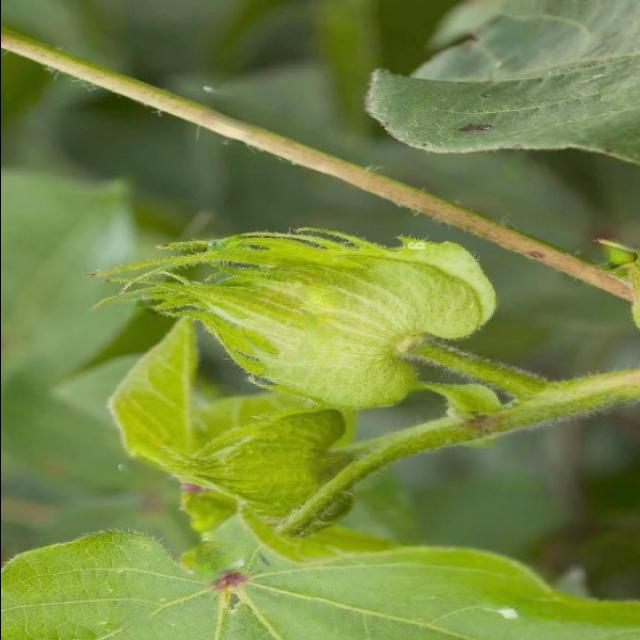Cotton Bud: (96, 216, 486, 412)
